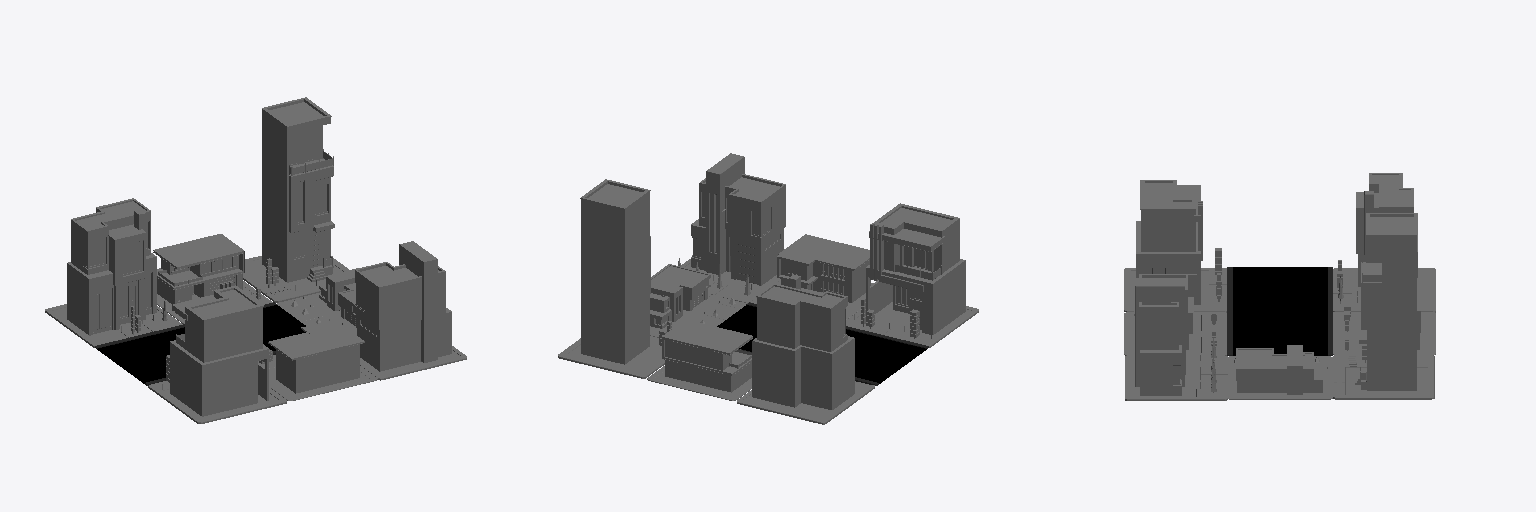
Rendered from road1.obj.
3 views of the same model, side by side, from view 1: azimuth 30°, elevation 25°; view 2: azimuth 150°, elevation 25°; view 3: azimuth 270°, elevation 25° (orthographic).
Visible parts, largest first — view 1: Box437_Mesh_164, Medium_Straight_Road_001, Box345_Mesh_313, Box335_Mesh_309, Box524_Mesh_122, Box621_Mesh_252, Line017_Mesh_194, Box548_Mesh_094, Box523_Mesh_121, Box522_Mesh_120, Box635_Mesh_250, Object093_Mesh_304 (+21 smaller); view 2: Box437_Mesh_164, Line017_Mesh_194, Box422_Mesh_187, Medium_Straight_Road_001, Box345_Mesh_313, Box523_Mesh_121, Box548_Mesh_094, Box524_Mesh_122, Box635_Mesh_250, Box335_Mesh_309, Object100_Mesh_311, Rectangle007_Mesh_175 (+22 smaller); view 3: Medium_Straight_Road_001, Box437_Mesh_164, Box335_Mesh_309, Box523_Mesh_121, Box522_Mesh_120, Object276_Mesh_119, Box345_Mesh_313, Rectangle007_Mesh_175, Line022_Mesh_129, Object122_Mesh_199, Object100_Mesh_311, Rectangle017_Mesh_248 (+15 smaller).
Boxes of the visible parts, x1,y1,x2,y2 form: Box437_Mesh_164: [262, 110, 330, 282]; Medium_Straight_Road_001: [95, 302, 305, 385]; Box345_Mesh_313: [170, 340, 269, 416]; Box335_Mesh_309: [185, 292, 262, 362]; Box524_Mesh_122: [355, 271, 445, 329]; Box621_Mesh_252: [276, 344, 359, 393]; Line017_Mesh_194: [67, 253, 156, 335]; Box548_Mesh_094: [153, 234, 244, 289]; Box523_Mesh_121: [399, 241, 437, 362]; Box522_Mesh_120: [380, 308, 451, 371]; Box635_Mesh_250: [268, 321, 364, 360]; Object093_Mesh_304: [213, 361, 257, 413]; Box437_Mesh_164: [581, 192, 649, 364]; Line017_Mesh_194: [752, 336, 854, 409]; Box422_Mesh_187: [757, 297, 847, 351]; Medium_Straight_Road_001: [717, 302, 928, 385]; Box345_Mesh_313: [866, 259, 965, 334]; Box523_Mesh_121: [706, 153, 744, 274]; Box548_Mesh_094: [662, 319, 752, 375]; Box524_Mesh_122: [729, 185, 785, 244]; Box635_Mesh_250: [778, 234, 869, 270]; Box335_Mesh_309: [884, 220, 959, 273]; Object100_Mesh_311: [874, 203, 959, 231]; Rectangle007_Mesh_175: [558, 329, 664, 378]; Medium_Straight_Road_001: [1227, 267, 1332, 355]; Box437_Mesh_164: [1367, 235, 1416, 390]; Box335_Mesh_309: [1141, 210, 1195, 251]; Box523_Mesh_121: [1135, 280, 1184, 386]; Box522_Mesh_120: [1140, 345, 1181, 395]; Object276_Mesh_119: [1139, 307, 1178, 349]; Box345_Mesh_313: [1136, 221, 1200, 304]; Rectangle007_Mesh_175: [1333, 355, 1434, 399]; Line022_Mesh_129: [1125, 356, 1227, 400]; Object122_Mesh_199: [1356, 173, 1413, 207]; Object100_Mesh_311: [1140, 180, 1195, 209]; Rectangle017_Mesh_248: [1124, 312, 1226, 355].
Bounding box in the file's own units: 19.95 × 11.22 × 19.93.